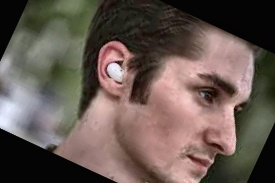earphone: (84, 35, 144, 100)
